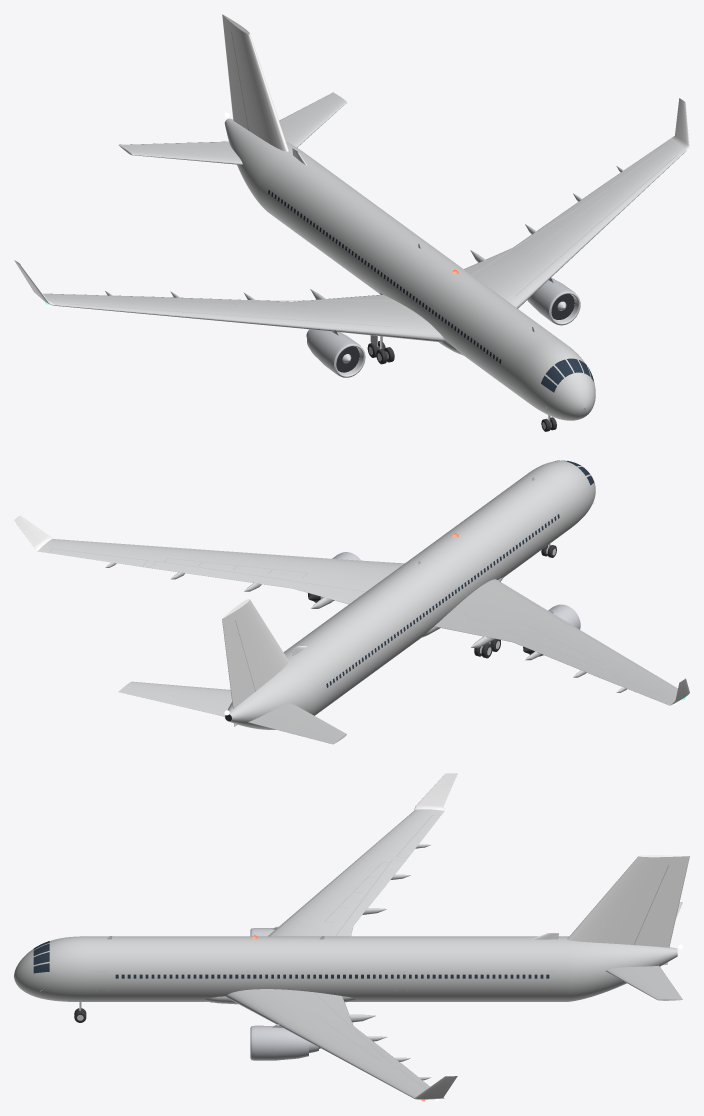
3 renders of one model, top to bottom at view 1: azimuth 30°, elevation 25°; view 2: azimuth 150°, elevation 25°; view 3: azimuth 270°, elevation 25°, orthographic. The views are drawn at different scales.
Parts seen in each view (by area): view 1: airframe, gear; view 2: airframe, gear; view 3: airframe.
Part boxes in pixels (box(x1,y1,x2,y2)): airframe: box(14, 14, 689, 420); gear: box(367, 335, 556, 431); airframe: box(14, 460, 689, 744); gear: box(474, 544, 556, 658); airframe: box(14, 773, 689, 1101).
Bounding box in the file's own units: 63.48 × 16.11 × 59.88.
